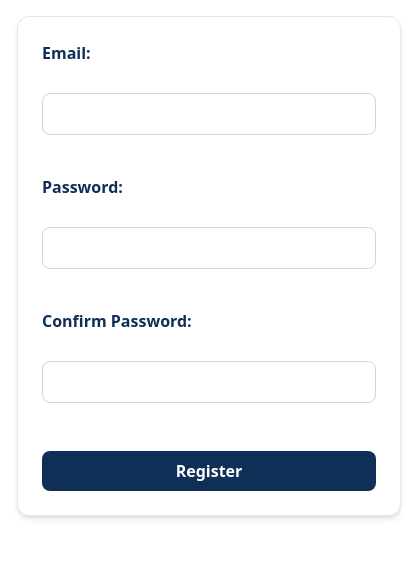
RegisterForm › validates email format before submission
The width and height of the screenshot is (419, 573).
In the field labelled "Email:": x=209, y=114 [42, 93, 376, 135], type "invalid-email"
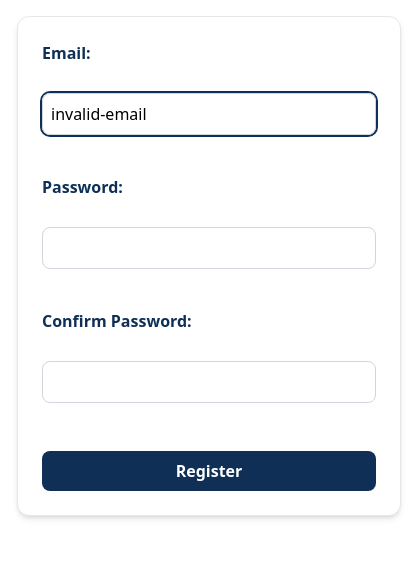
In the password field labelled "Password:": x=209, y=248 [42, 227, 376, 269], type "password123"
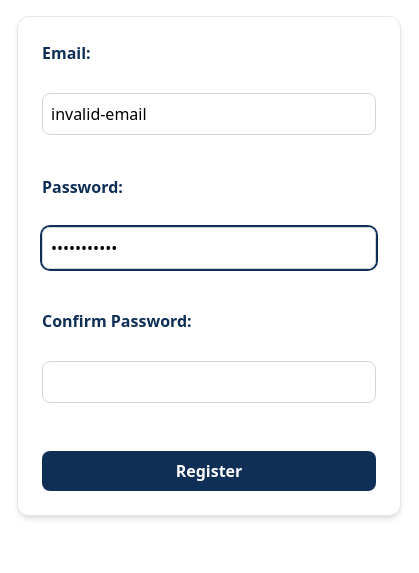
In the password field labelled "Confirm Password:": x=209, y=382 [42, 361, 376, 403], type "password123"
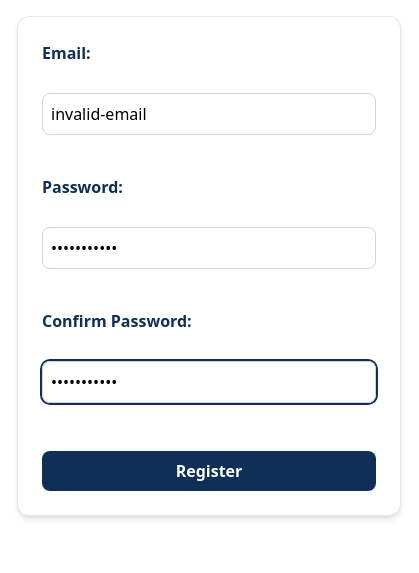
Click the submit button: x=209, y=471 [42, 451, 376, 491]
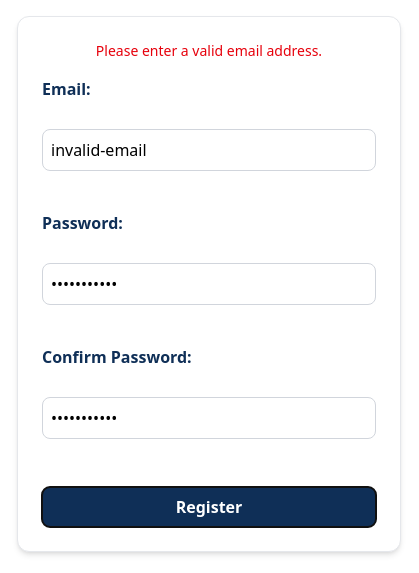
Expected: the text "Please enter a valid email address." is shown, [96, 41, 322, 60]
